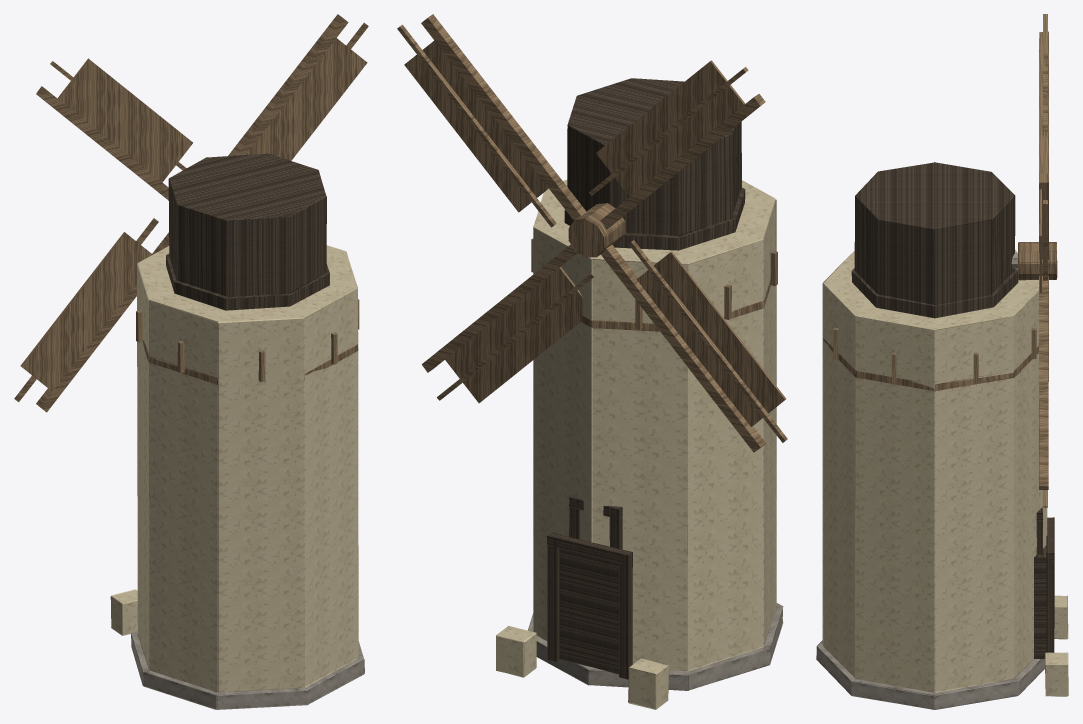
Rendered from meadow_windmill.glb.
The picture shows the model from 3 angles, left to right: view 1: azimuth 30°, elevation 25°; view 2: azimuth 150°, elevation 25°; view 3: azimuth 270°, elevation 25°; orthographic projection. The views are drawn at different scales.
Visible parts, largest first — view 1: MeadowWindmill, Blades; view 2: MeadowWindmill, Blades; view 3: MeadowWindmill, Blades.
Part boxes in pixels (x1,y1,x2,y2): MeadowWindmill: (110,153,364,709); Blades: (14,14,368,412); MeadowWindmill: (496,78,783,709); Blades: (397,14,787,452); MeadowWindmill: (816,162,1068,709); Blades: (1017,14,1057,507).
Bounding box in the file's own units: 6.98 × 11.2 × 4.41.
Materials: 4 (4 with a texture image).
